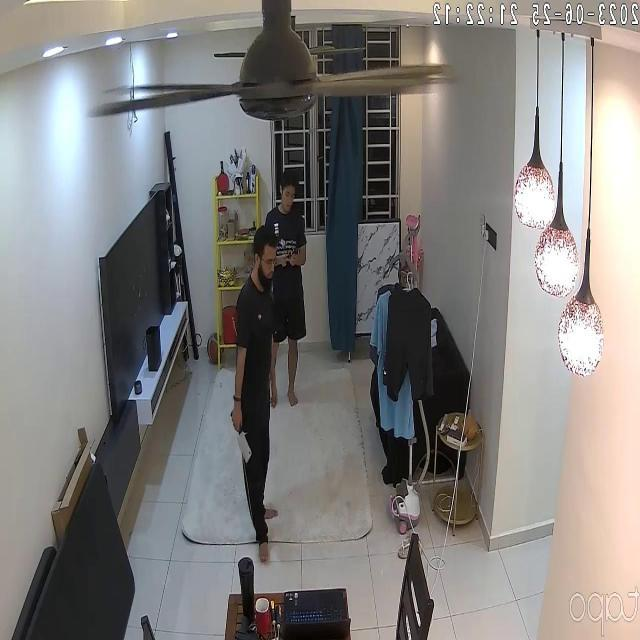Knife: (227, 405, 258, 474)
